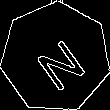N_NW: (25, 25, 86, 89)
